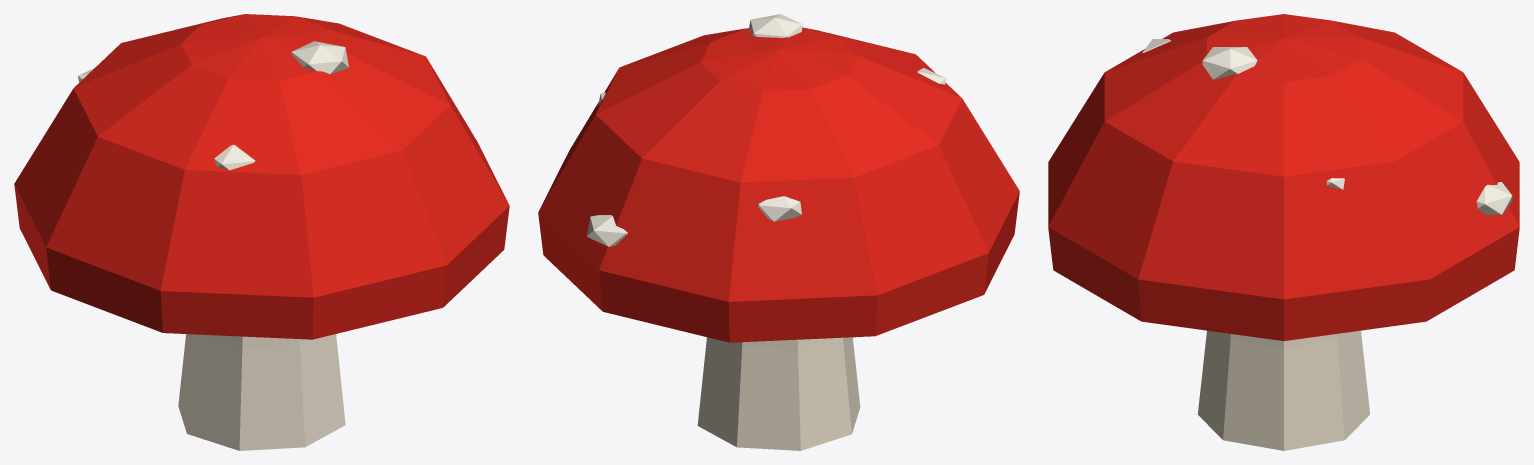
File: mushroom.glb
3 views of the same model, side by side, from view 1: azimuth 30°, elevation 25°; view 2: azimuth 150°, elevation 25°; view 3: azimuth 270°, elevation 25° (orthographic). The views are drawn at different scales.
Parts seen in each view (by area): view 1: mushroom; view 2: mushroom; view 3: mushroom.
Part boxes in pixels (x1,y1,x2,y2): mushroom: [14, 14, 509, 450]; mushroom: [538, 14, 1019, 450]; mushroom: [1048, 14, 1519, 450].
Size of the model in its own units: 0.092 by 0.078 by 0.0875.
